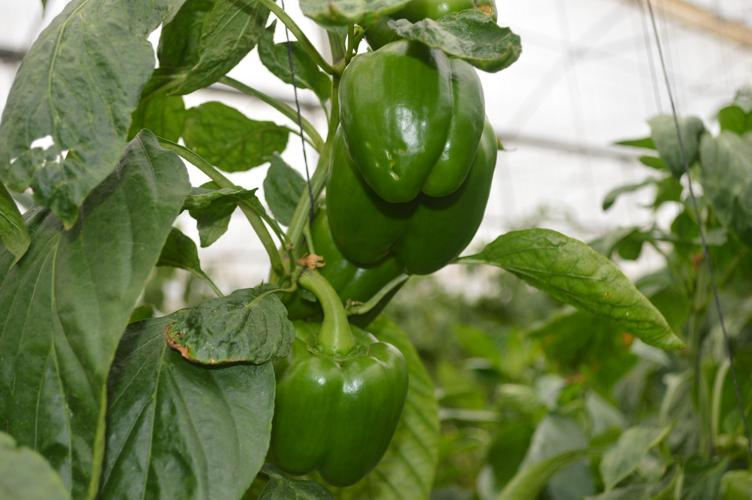BellPepper: (303, 117, 498, 286), (252, 290, 411, 493), (328, 36, 485, 200)
